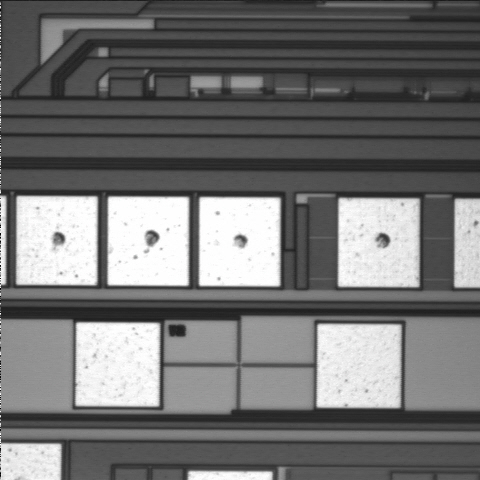pad: (16, 196, 98, 285), (108, 197, 189, 286), (199, 197, 280, 286), (338, 198, 419, 287), (317, 324, 401, 408), (76, 323, 160, 406)
